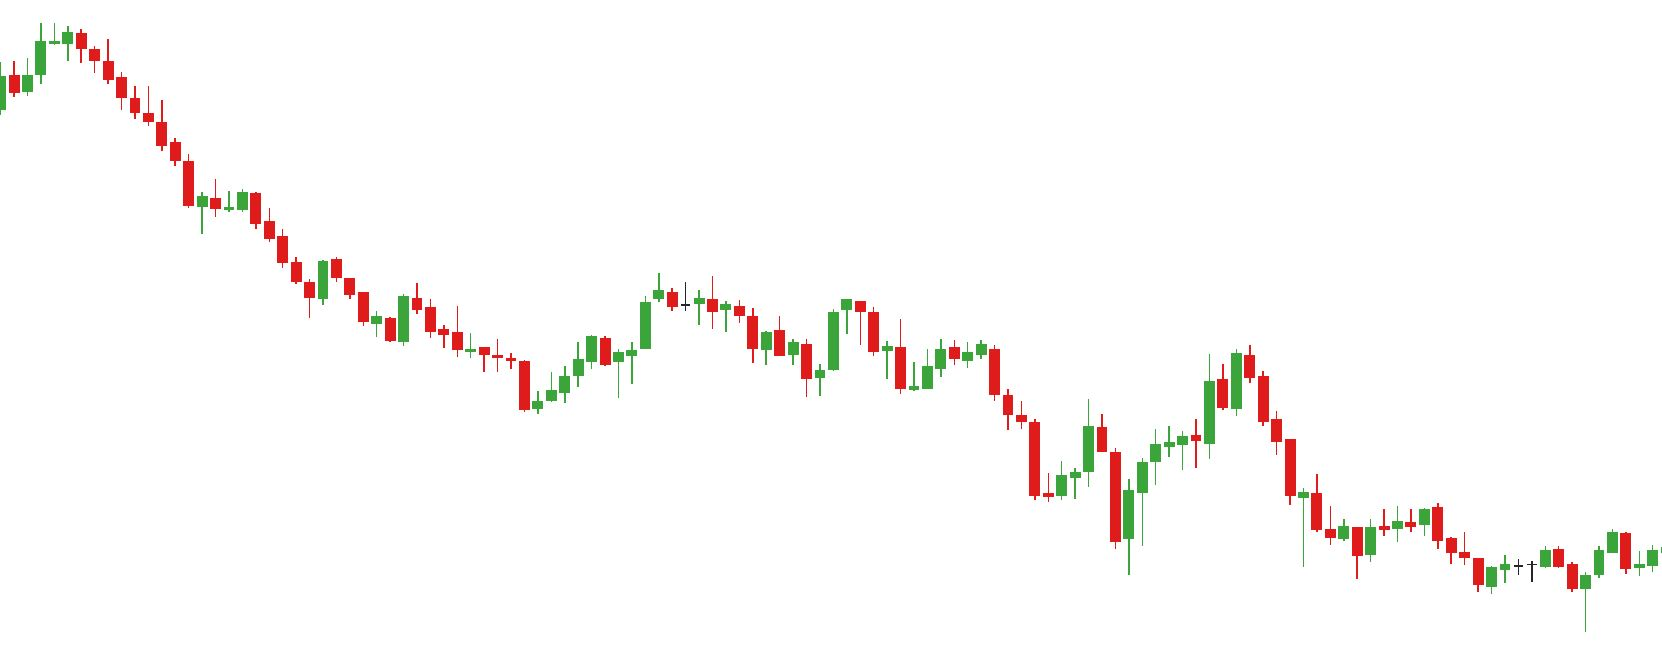buy: (1024, 432, 1137, 593)
